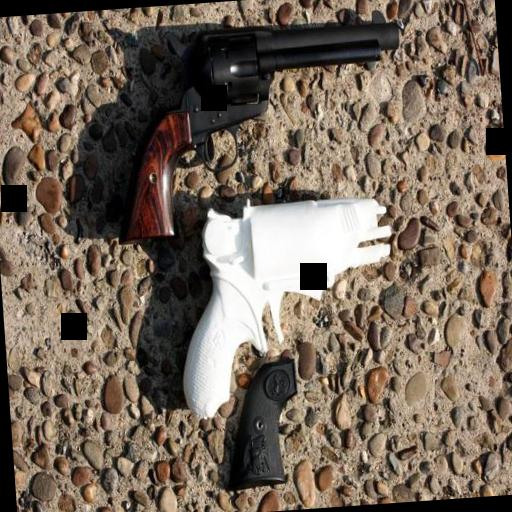Handgun: (96, 2, 412, 253), (157, 175, 408, 427)
